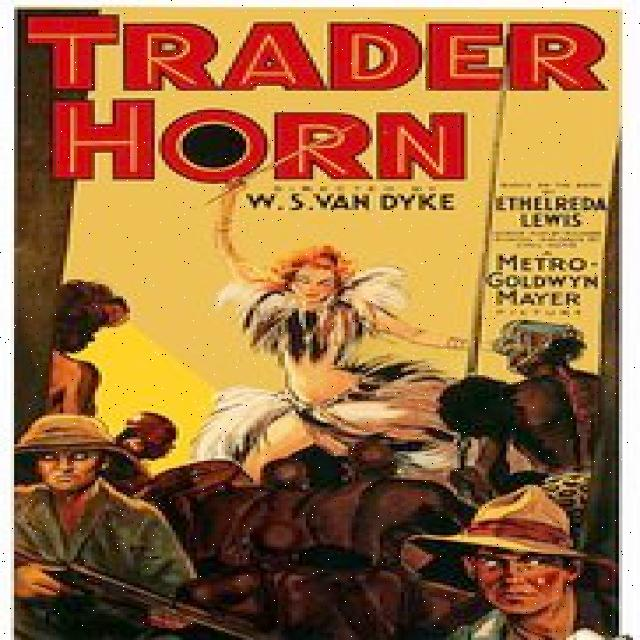movie-judul: (19, 9, 630, 232)
picture: (14, 184, 624, 639)
